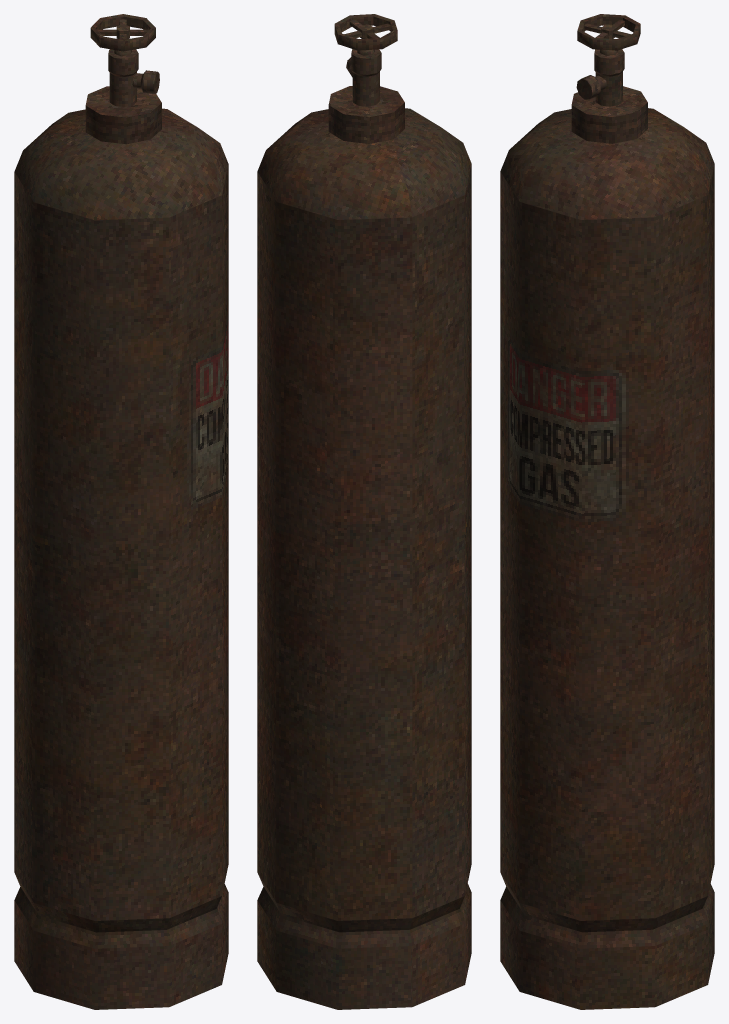
File: gas_cylinder_mx_1.glb
3 renders of one model, left to right at view 1: azimuth 30°, elevation 25°; view 2: azimuth 150°, elevation 25°; view 3: azimuth 270°, elevation 25°, orthographic.
Parts seen in each view (by area): view 1: gas_cylinder_mx_1; view 2: gas_cylinder_mx_1; view 3: gas_cylinder_mx_1.
Boxes of the visible parts, x1,y1,x2,y2 form: gas_cylinder_mx_1: (14,14,228,1009); gas_cylinder_mx_1: (257,14,471,1009); gas_cylinder_mx_1: (500,14,714,1009).
Size of the model in its own units: 0.3278 by 1.58 by 0.3278.
Materials: 1 (1 with a texture image).
